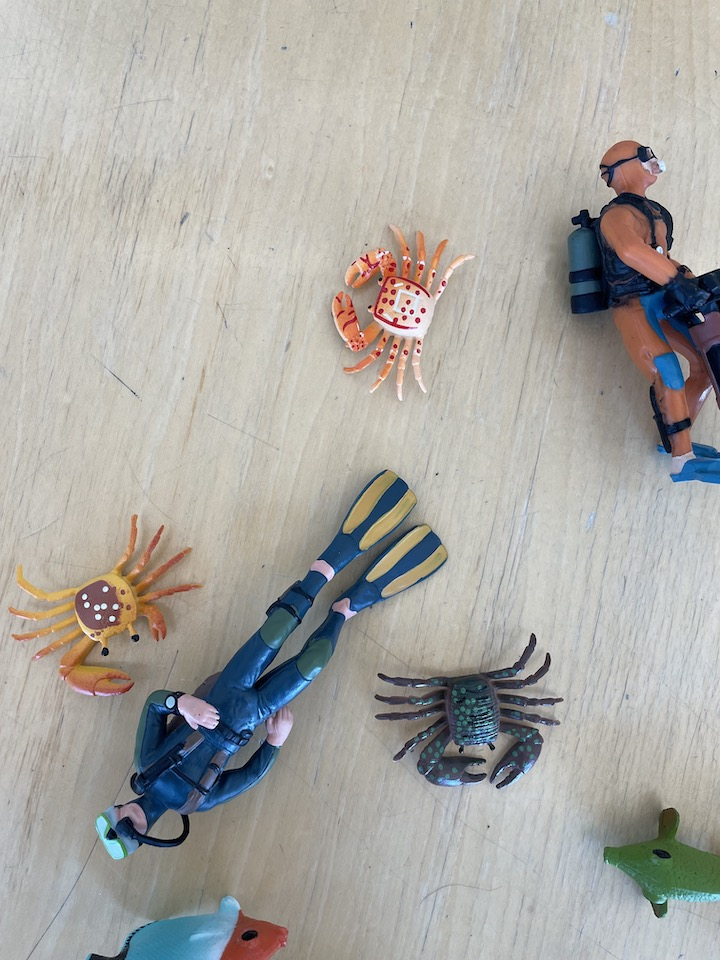crab: (8, 513, 209, 702), (368, 632, 564, 790), (330, 224, 474, 401)
diver: (93, 465, 450, 867), (566, 137, 720, 488)
fish: (599, 806, 720, 921), (85, 895, 291, 960)
